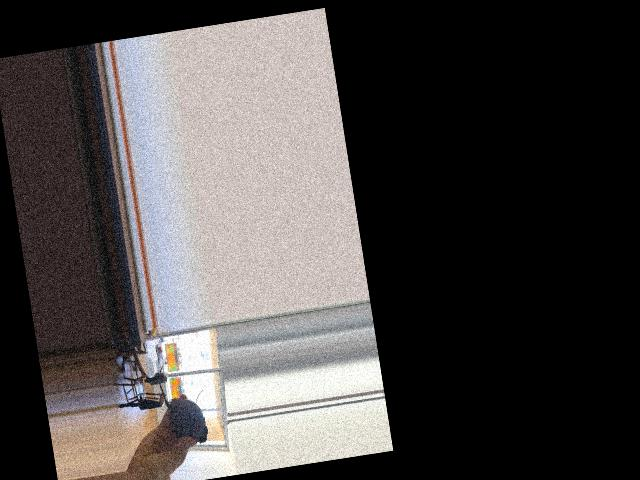beet: (156, 359, 209, 447)
